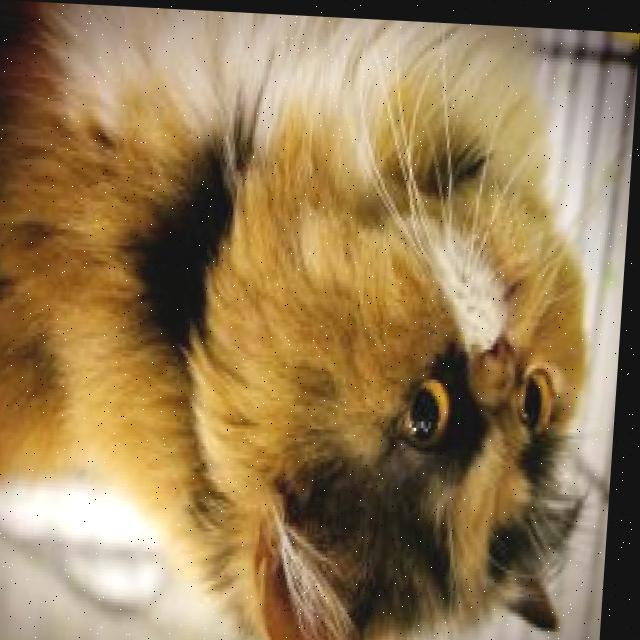Persian: (0, 0, 618, 640)
